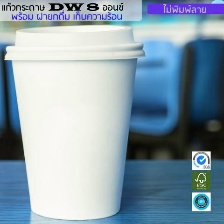paper_cup: (0, 21, 149, 223)
